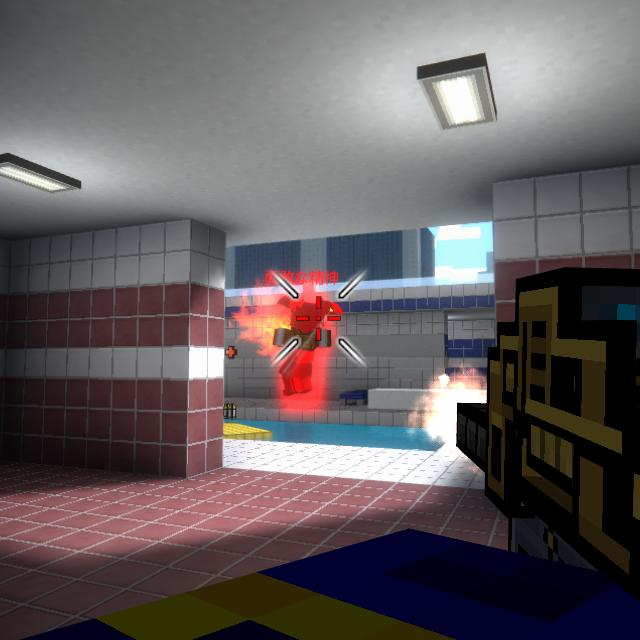Enemy: (272, 302, 331, 396)
